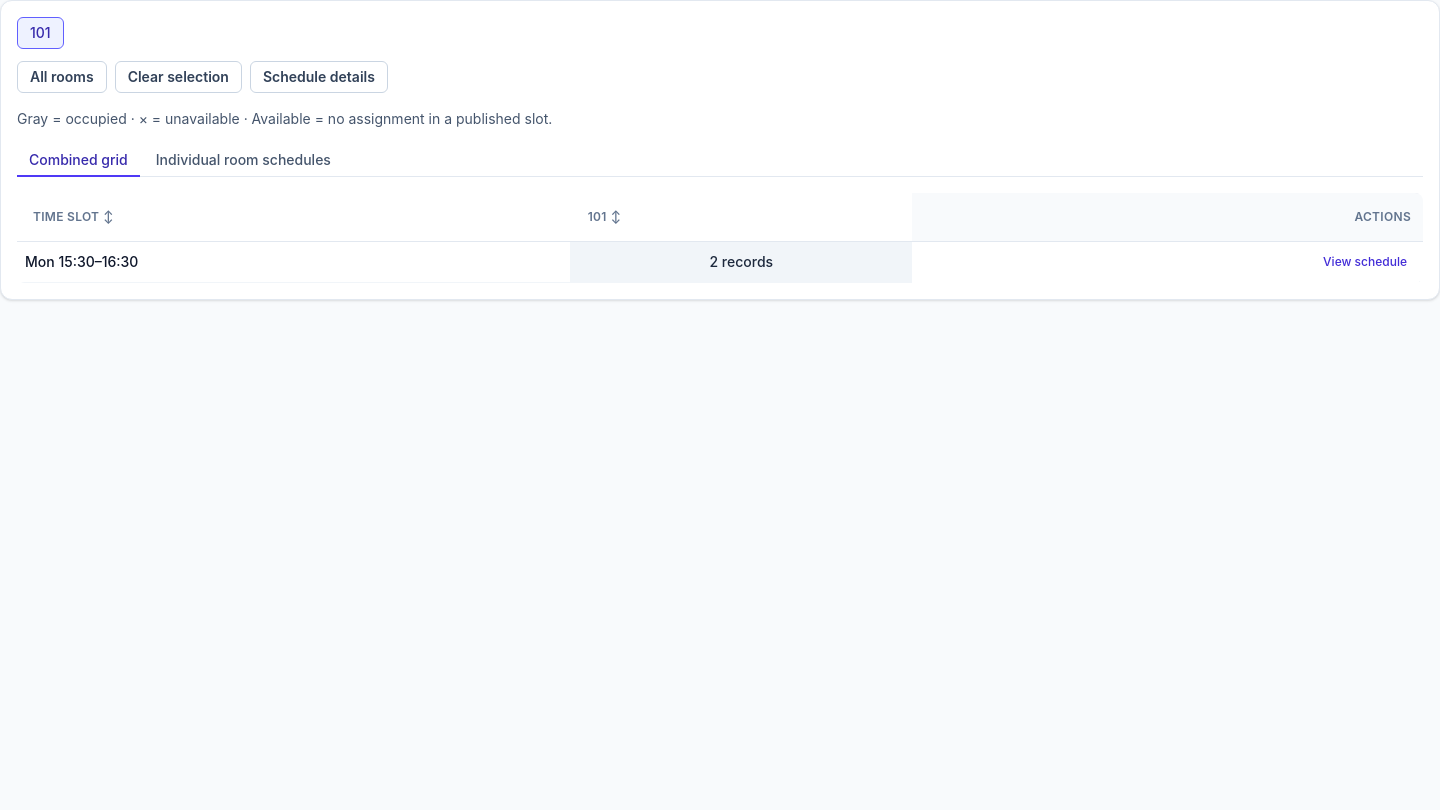
Test: uses an account username or localized unlinked-name fallback in active detail rows
The width and height of the screenshot is (1440, 810).
Click the button "Schedule details" at (319,77), box [250,61,388,93]
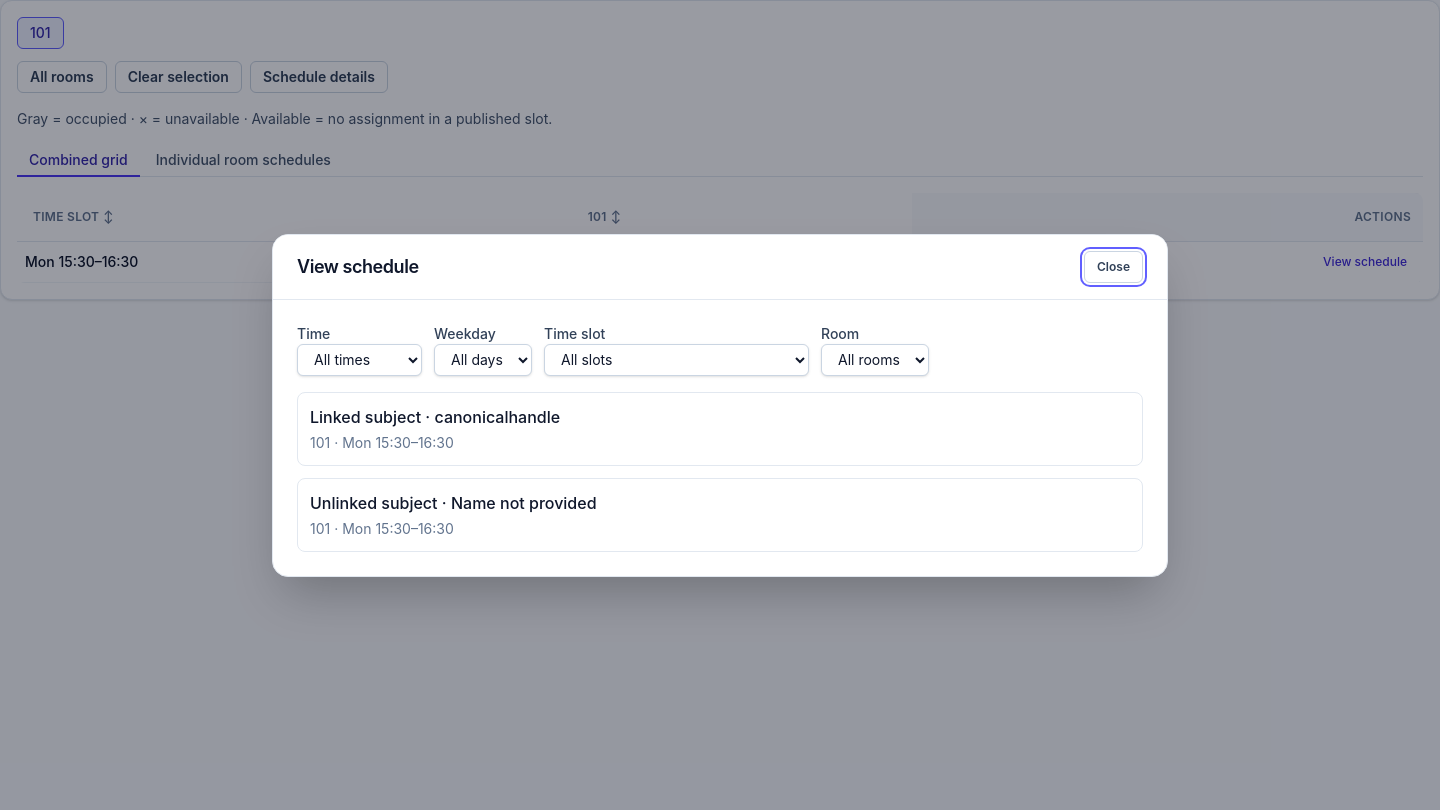
expect the text "Linked subject · canonicalhandle" is shown: met, box [310,406,560,426]
